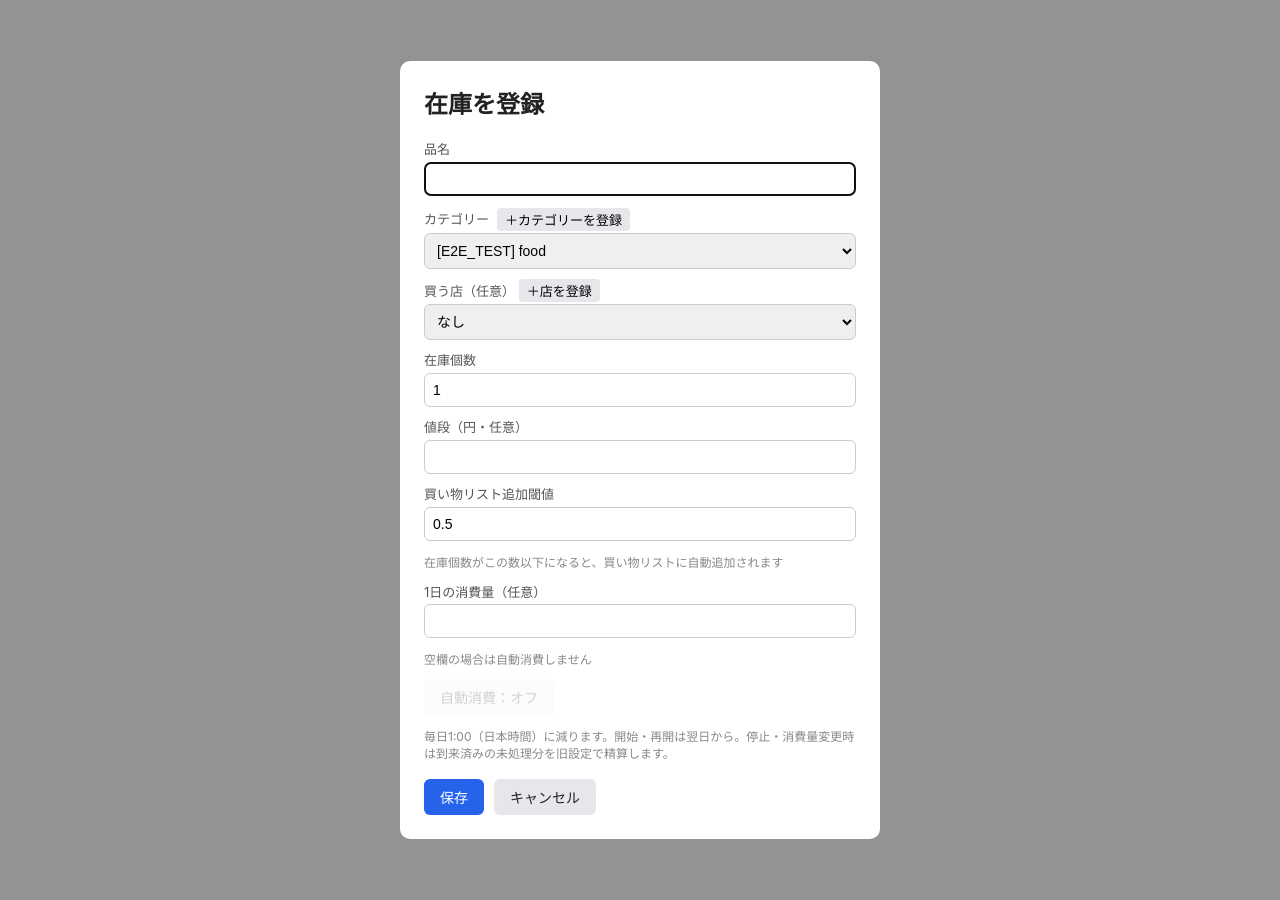
Test case: 不正な入力-1は送信しない
In the field labelled "品名": (640, 179) x1=424 y1=162 x2=856 y2=196, type "[E2E_TEST] testuser_invalid"
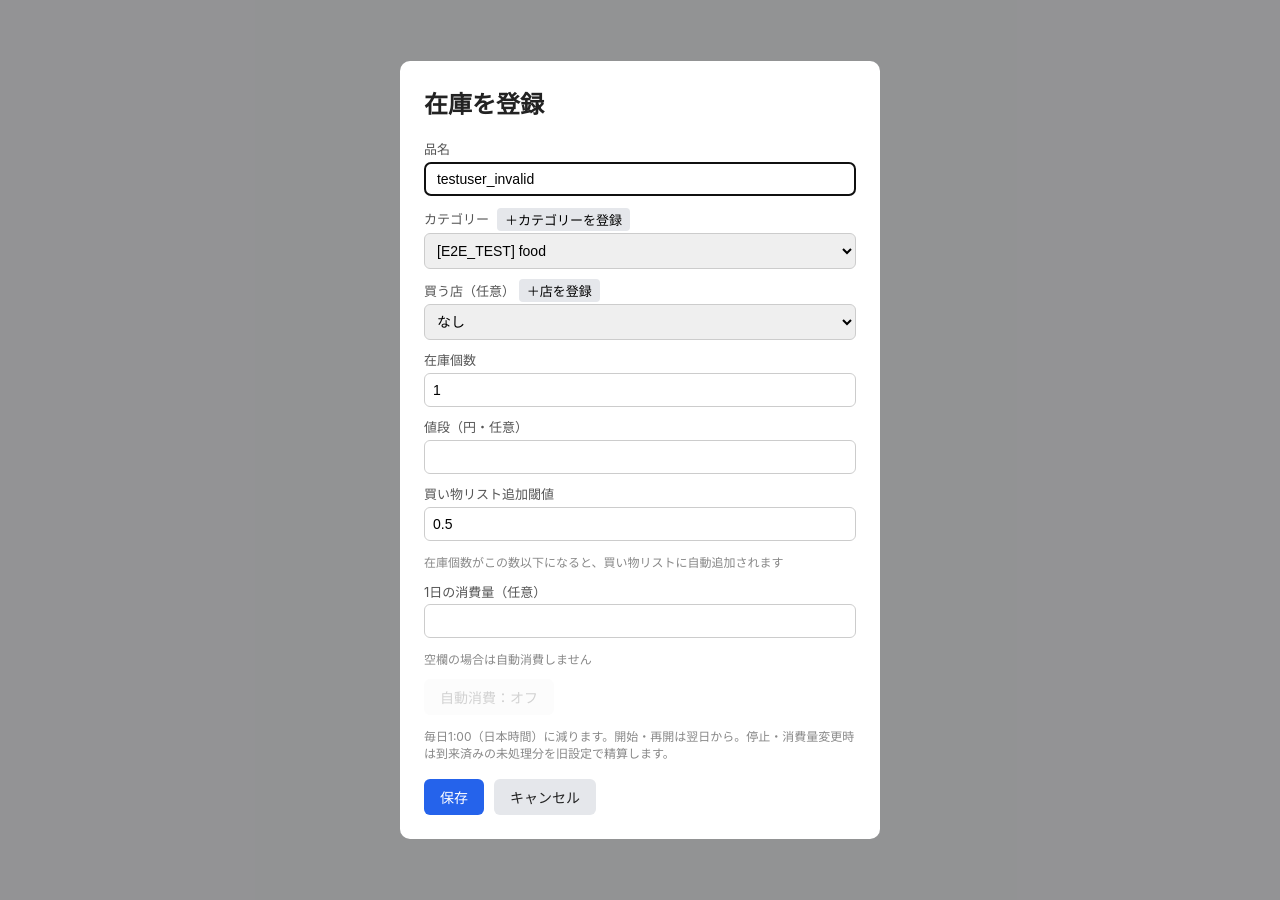
In the number field labelled "1日の消費量（任意）": (640, 621) x1=424 y1=604 x2=856 y2=638, type "-1"
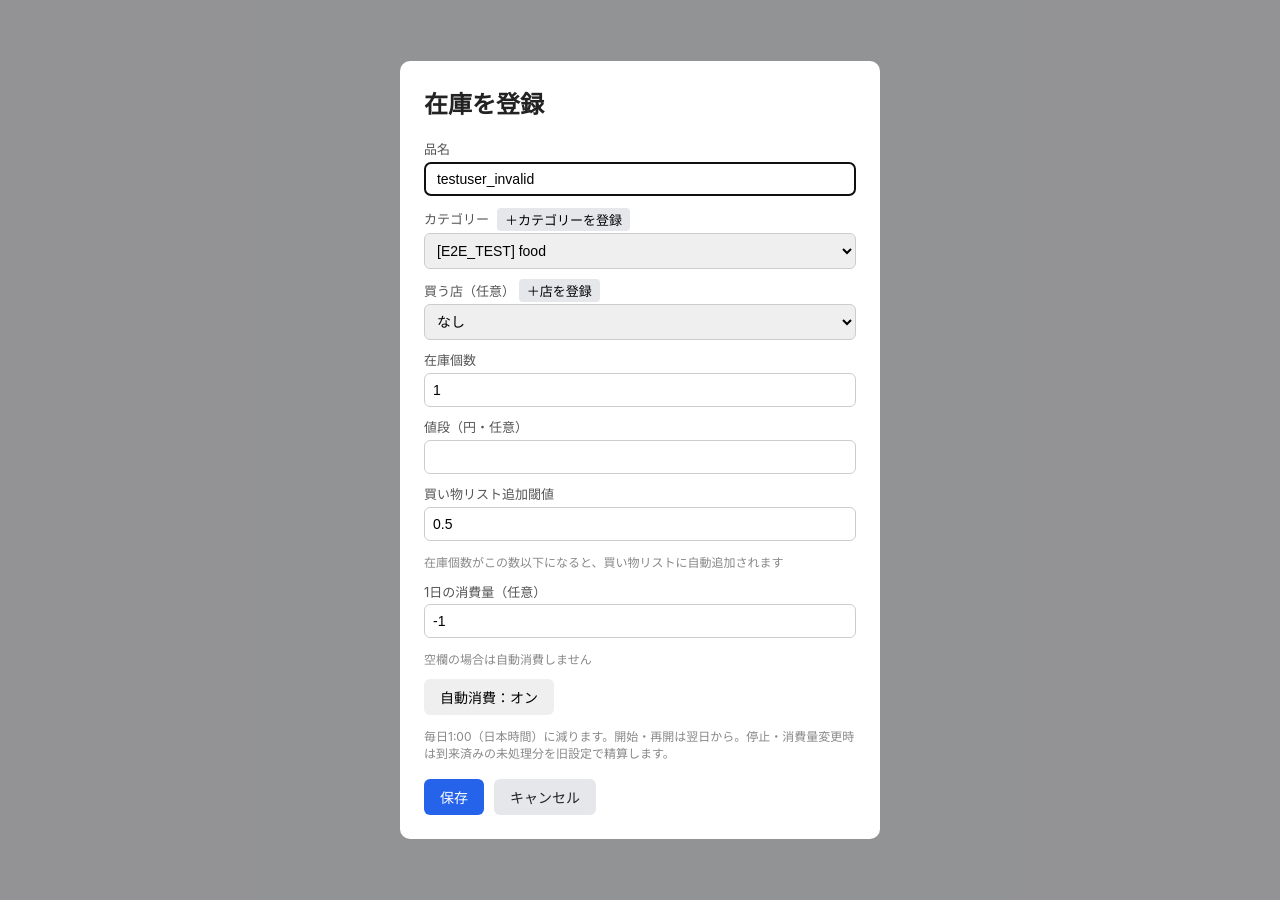
Submit the form named "保存", box x1=424 y1=140 x2=856 y2=816
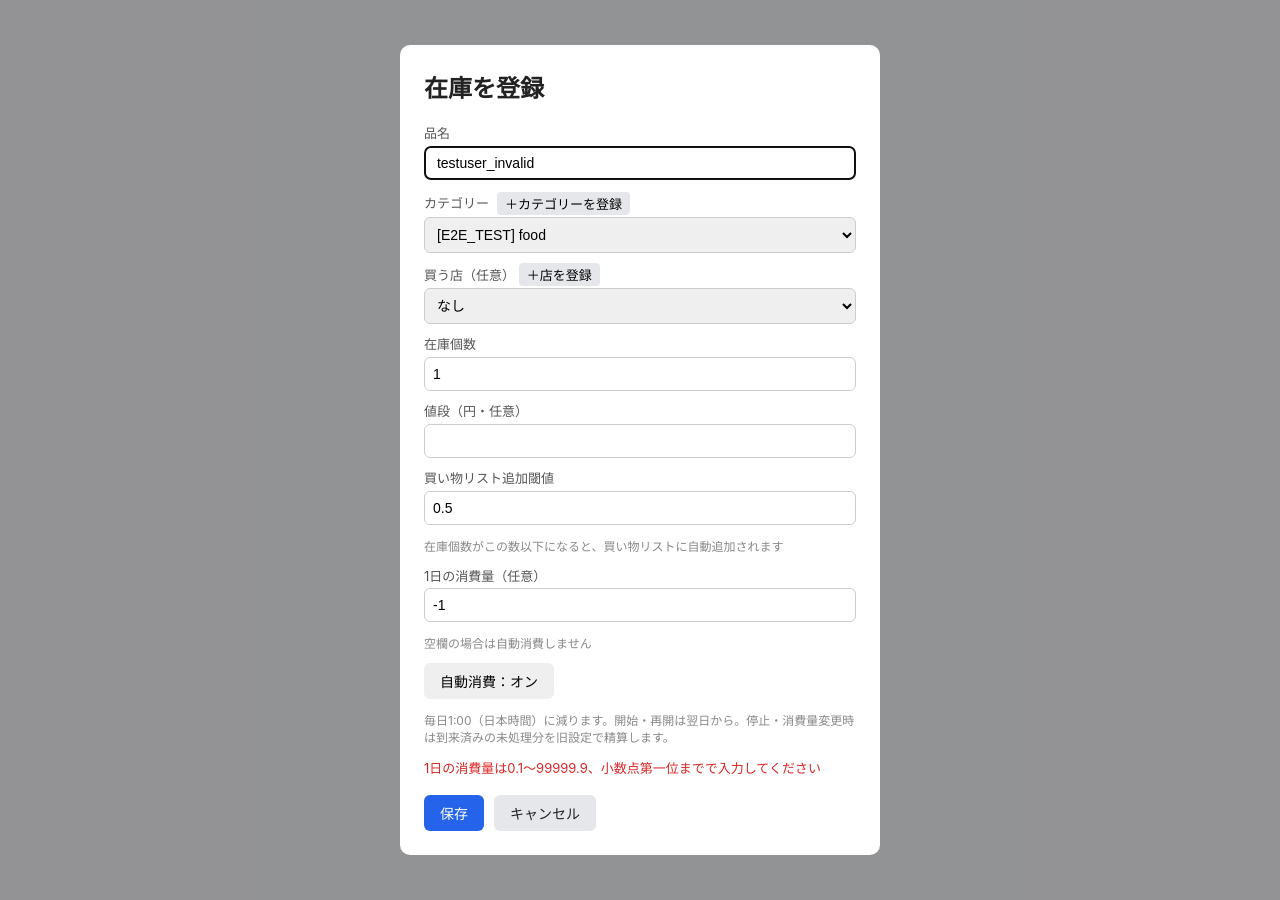
Now the message shows "1日の消費量は0.1〜99999.9", box x1=424 y1=760 x2=821 y2=776
